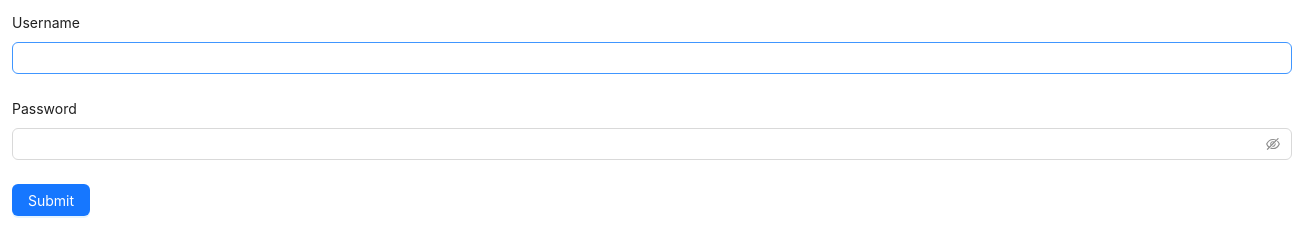
Test: LoginForm › displays validation errors on form submission with empty fields
Click the button "Submit" at (51, 200), box [12,184,90,216]
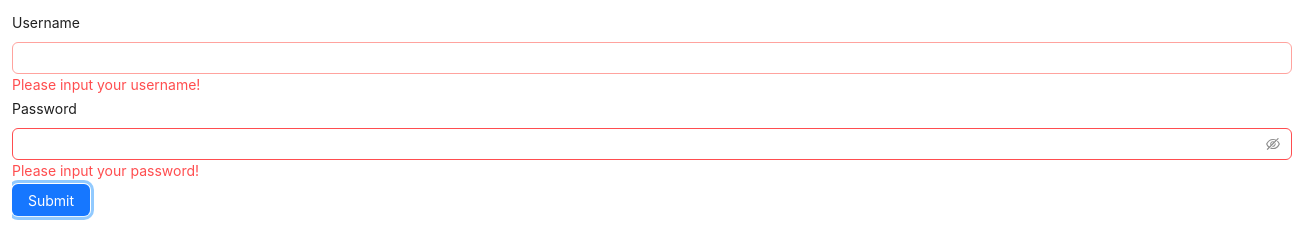
Now the text "Please input your username!" is shown, box [12,76,200,93]
Now the text "Please input your password!" is shown, box [12,162,199,179]
